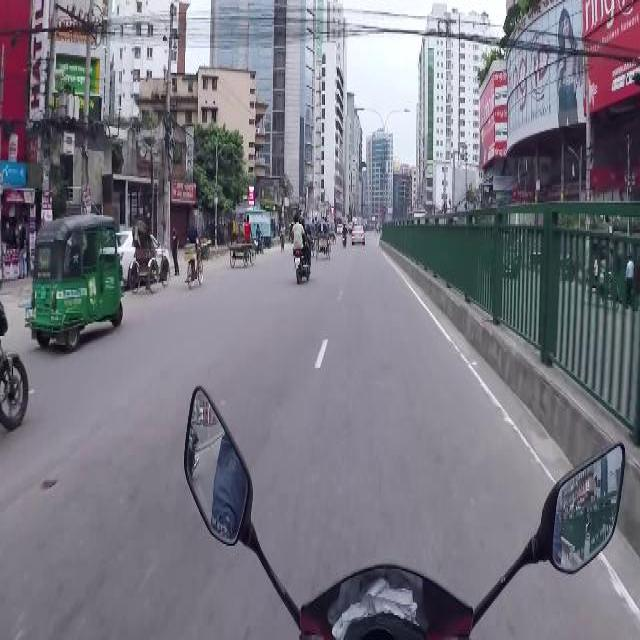bicycle: (182, 239, 205, 287), (279, 222, 285, 251)
bus: (407, 208, 427, 222)
car: (116, 227, 170, 285), (350, 225, 364, 244)
minivan: (336, 222, 342, 233)
motorbike: (178, 380, 626, 630), (0, 298, 28, 431), (292, 215, 312, 283), (254, 222, 264, 254), (340, 222, 346, 247)
pickup: (245, 207, 273, 248)
rickshaw: (130, 220, 168, 292), (584, 236, 620, 308), (314, 218, 330, 258), (304, 217, 314, 256), (234, 220, 244, 242), (328, 218, 336, 244)
three wheelers -CNG-: (26, 212, 122, 346)
